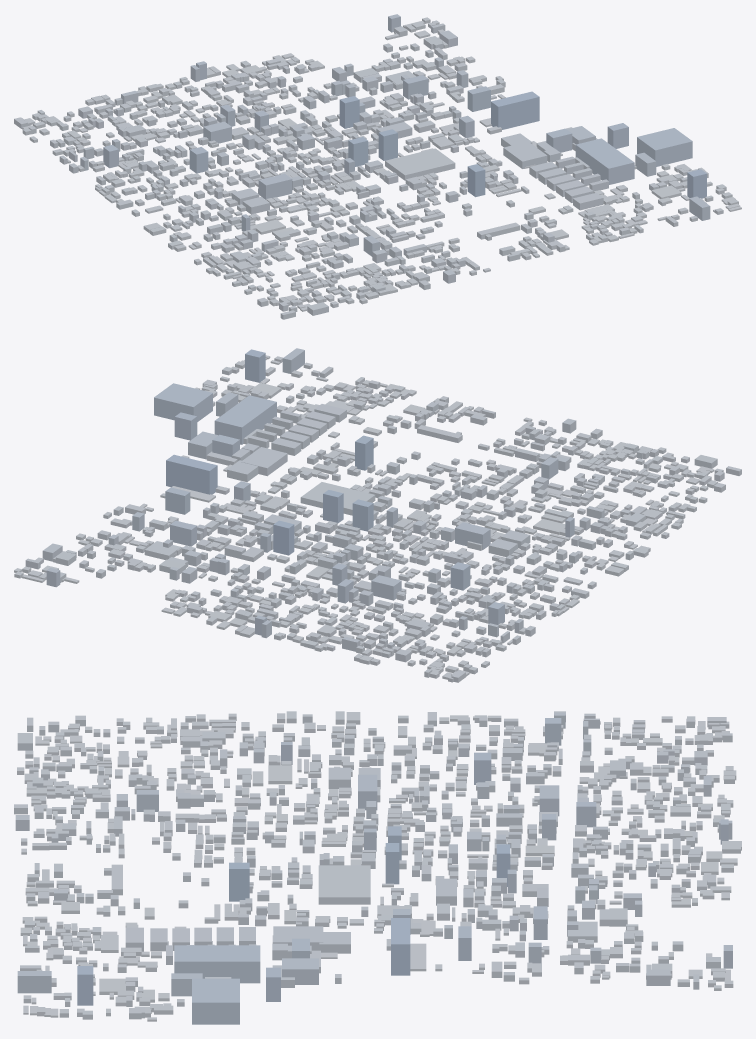
3 views of the same model, one above another, from view 1: azimuth 30°, elevation 25°; view 2: azimuth 150°, elevation 25°; view 3: azimuth 270°, elevation 25° (orthographic). The views are drawn at different scales.
Bounding box in the file's own units: 1023 × 51.84 × 1021.
